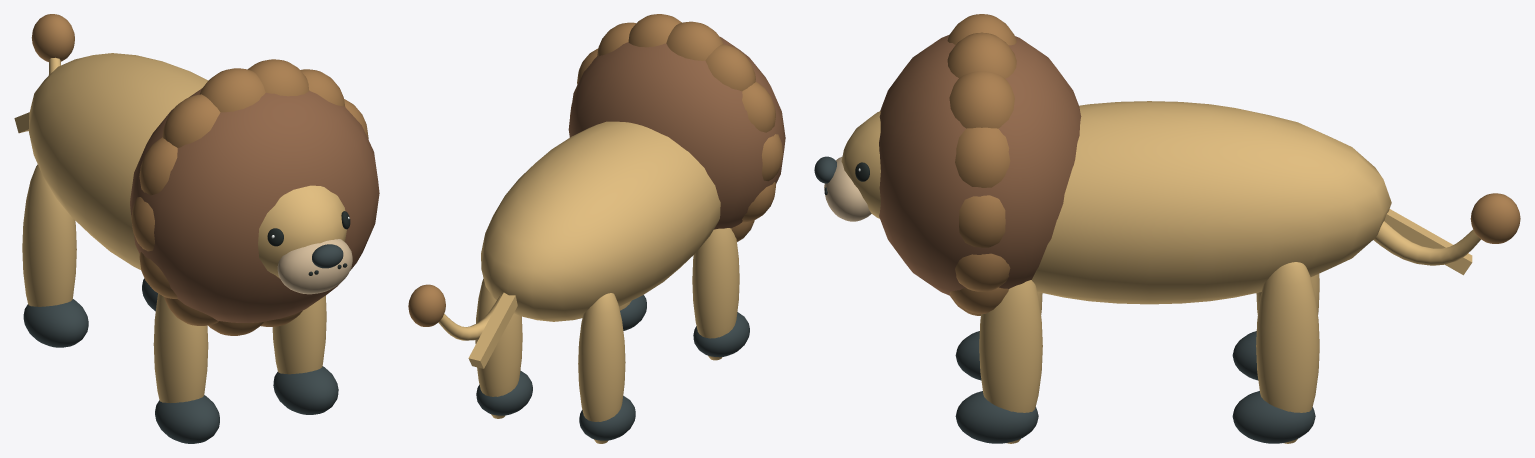
File: city-lion.glb
3 views of the same model, side by side, from view 1: azimuth 30°, elevation 25°; view 2: azimuth 150°, elevation 25°; view 3: azimuth 270°, elevation 25° (orthographic). The views are drawn at different scales.
Visible parts, largest first — view 1: Animal_lion, Walk_BL, Walk_FL, Walk_FR; view 2: Animal_lion, Walk_BL, Walk_FL, Walk_BR, Walk_FR; view 3: Animal_lion, Walk_BR, Walk_FR, Walk_BL, Walk_FL.
Boxes of the visible parts, x1=… form: Animal_lion: x1=14, y1=14, x2=379, y2=335; Walk_BL: x1=22, y1=164, x2=88, y2=347; Walk_FL: x1=153, y1=293, x2=219, y2=443; Walk_FR: x1=272, y1=295, x2=338, y2=414; Animal_lion: x1=408, y1=14, x2=785, y2=368; Walk_BL: x1=578, y1=293, x2=635, y2=443; Walk_FL: x1=692, y1=228, x2=749, y2=360; Walk_BR: x1=475, y1=278, x2=532, y2=418; Walk_FR: x1=619, y1=295, x2=646, y2=330; Animal_lion: x1=814, y1=14, x2=1520, y2=315; Walk_BR: x1=1232, y1=262, x2=1319, y2=443; Walk_FR: x1=955, y1=280, x2=1042, y2=443; Walk_BL: x1=1232, y1=274, x2=1319, y2=380; Walk_FL: x1=955, y1=292, x2=1042, y2=380.
Bounding box in the file's own units: 2.08 × 3.08 × 5.1.
